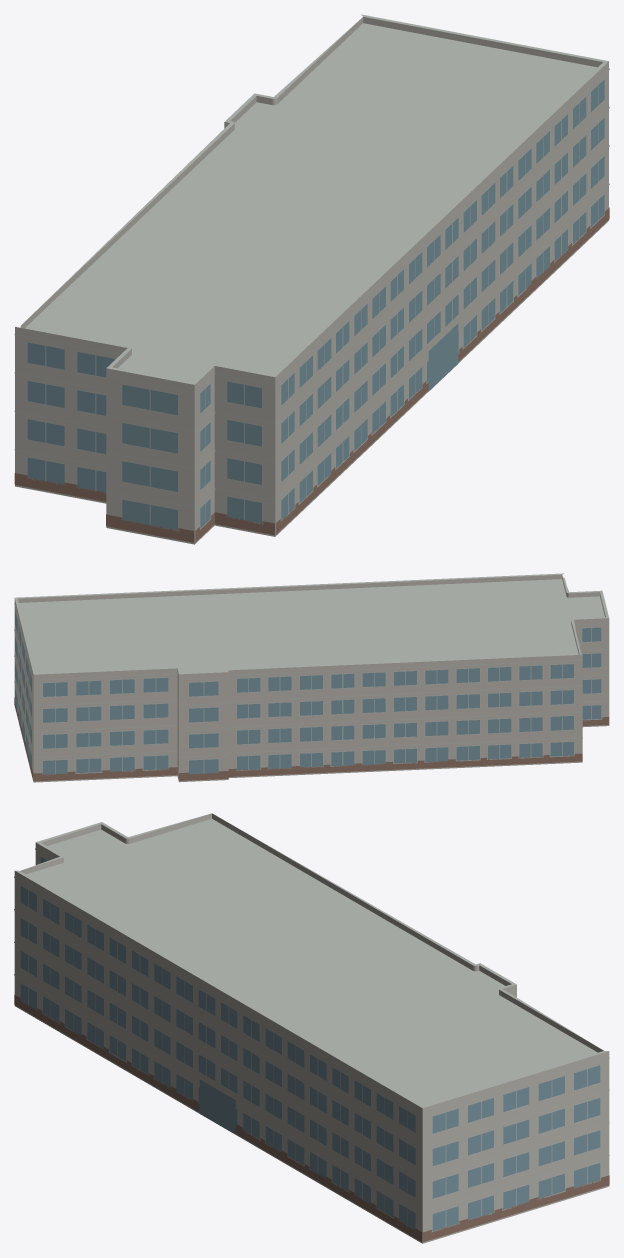
Rendered from public-2f3cef4e-51c0-48d6-9ff4-998667587097.glb.
The picture shows the model from 3 angles, top to bottom: view 1: azimuth 30°, elevation 25°; view 2: azimuth 150°, elevation 25°; view 3: azimuth 270°, elevation 25°; orthographic projection. The views are drawn at different scales.
Visible parts, largest first — view 1: public-2f3cef4e-51c0-48d6-9ff4-998667587097; view 2: public-2f3cef4e-51c0-48d6-9ff4-998667587097; view 3: public-2f3cef4e-51c0-48d6-9ff4-998667587097.
Boxes of the visible parts, <box> form: public-2f3cef4e-51c0-48d6-9ff4-998667587097: <box>14,14,609,544</box>; public-2f3cef4e-51c0-48d6-9ff4-998667587097: <box>14,573,609,782</box>; public-2f3cef4e-51c0-48d6-9ff4-998667587097: <box>14,813,609,1243</box>.
Size of the model in its own units: 57.49 by 12.2 by 48.63.
